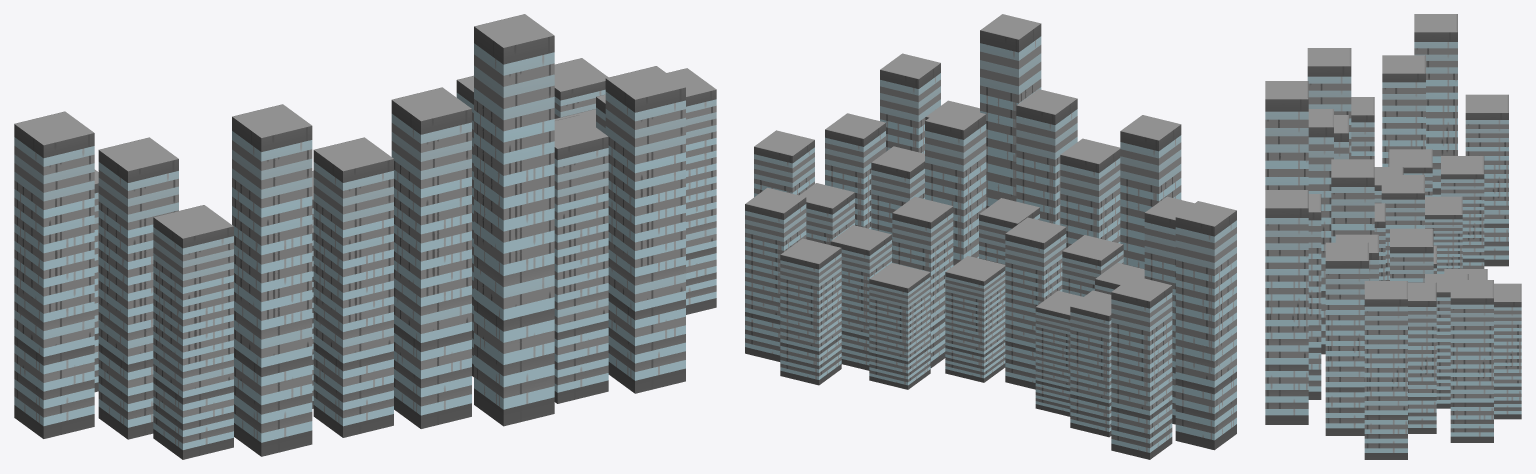
File: bilti.fbx
3 renders of one model, left to right at view 1: azimuth 30°, elevation 25°; view 2: azimuth 150°, elevation 25°; view 3: azimuth 270°, elevation 25°, orthographic. The views are drawn at different scales.
Visible parts, largest first — view 1: Cube.047, Cube.027, Cube.046, Cube.031, Cube.036, Cube.051, Cube.024, Cube.026, Cube.030, Cube.037, Cube.028, Cube.050 (+9 smaller); view 2: Cube.036, Cube.037, Cube.039, Cube.040, Cube.038, Cube.047, Cube.011, Cube.004, Cube.043, Cube, Cube.023, Cube.041 (+37 smaller); view 3: Cube.051, Cube.052, Cube.048, Cube.050, Cube.043, Cube.049, Cube.053, Cube.039, Cube.042, Cube.036, Cube.047, Cube.032 (+34 smaller).
Part boxes in pixels (x1,y1,x2,y2): Cube.047: (474, 14, 554, 426); Cube.027: (232, 104, 312, 456); Cube.046: (474, 43, 554, 409); Cube.031: (391, 87, 471, 428); Cube.036: (14, 111, 94, 438); Cube.051: (605, 66, 685, 393); Cube.024: (313, 137, 393, 437); Cube.026: (232, 131, 312, 442); Cube.030: (391, 114, 471, 415); Cube.037: (14, 137, 94, 426); Cube.028: (153, 205, 233, 459); Cube.050: (605, 91, 685, 380); Cube.036: (1175, 201, 1236, 450); Cube.037: (1175, 220, 1236, 440); Cube.039: (1111, 276, 1172, 459); Cube.040: (780, 238, 841, 385); Cube.038: (1111, 292, 1172, 452); Cube.047: (980, 14, 1041, 208); Cube.011: (869, 263, 930, 389); Cube.004: (945, 256, 1005, 382); Cube.043: (745, 187, 806, 361); Cube: (1005, 217, 1066, 389); Cube.023: (925, 104, 986, 265); Cube.041: (780, 253, 841, 379); Cube.051: (1265, 190, 1308, 424); Cube.052: (1364, 281, 1407, 459); Cube.048: (1325, 242, 1368, 435); Cube.050: (1265, 218, 1308, 415); Cube.043: (1450, 280, 1493, 442); Cube.049: (1325, 268, 1368, 428); Cube.053: (1364, 306, 1407, 452); Cube.039: (1465, 94, 1508, 266); Cube.042: (1450, 304, 1493, 436); Cube.036: (1414, 14, 1457, 194); Cube.047: (1265, 81, 1308, 189); Cube.032: (1408, 282, 1436, 433).
Bounding box in the file's own units: 2507 × 1418 × 1183.
2 materials, 2 textured.
